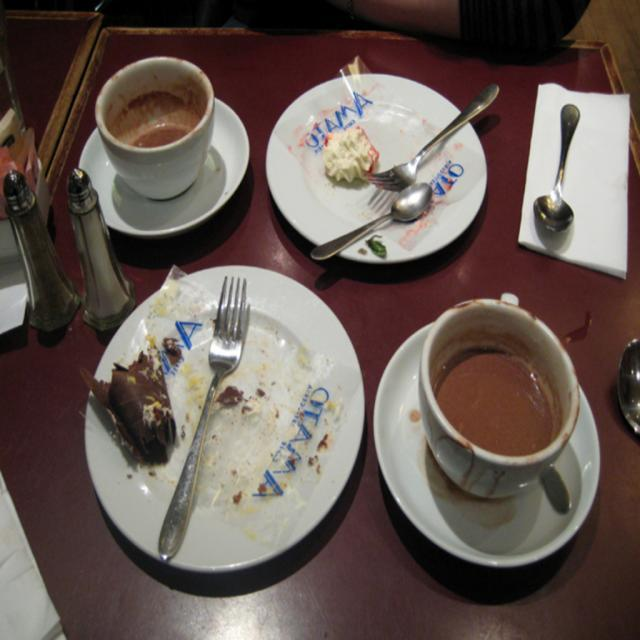ceramic plate: (86, 256, 367, 596), (370, 292, 608, 598), (252, 70, 502, 264)
